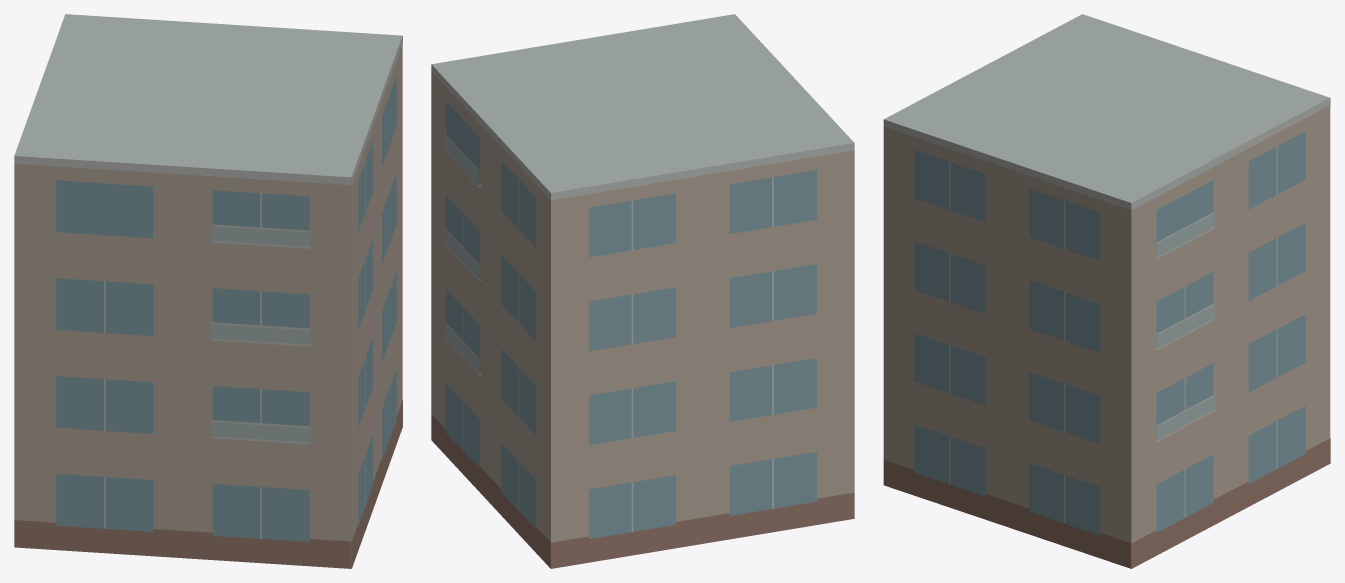
The model's file is residential-aa0c7e73-a2e9-438e-b8c2-7dab36684089.glb.
3 views of the same model, side by side, from view 1: azimuth 30°, elevation 25°; view 2: azimuth 150°, elevation 25°; view 3: azimuth 270°, elevation 25° (orthographic). The views are drawn at different scales.
Parts seen in each view (by area): view 1: residential-aa0c7e73-a2e9-438e-b8c2-7dab36684089.tmp; view 2: residential-aa0c7e73-a2e9-438e-b8c2-7dab36684089.tmp; view 3: residential-aa0c7e73-a2e9-438e-b8c2-7dab36684089.tmp.
Boxes of the visible parts, left/top/right/bottom form: residential-aa0c7e73-a2e9-438e-b8c2-7dab36684089.tmp: left=14, top=14, right=402, bottom=568; residential-aa0c7e73-a2e9-438e-b8c2-7dab36684089.tmp: left=431, top=14, right=854, bottom=568; residential-aa0c7e73-a2e9-438e-b8c2-7dab36684089.tmp: left=883, top=14, right=1330, bottom=568.
Size of the model in its own units: 13.53 by 12.2 by 13.51.
